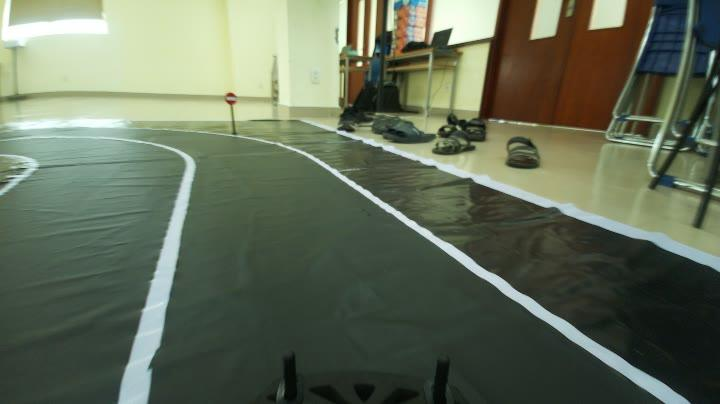no_entry: (220, 88, 240, 104)
